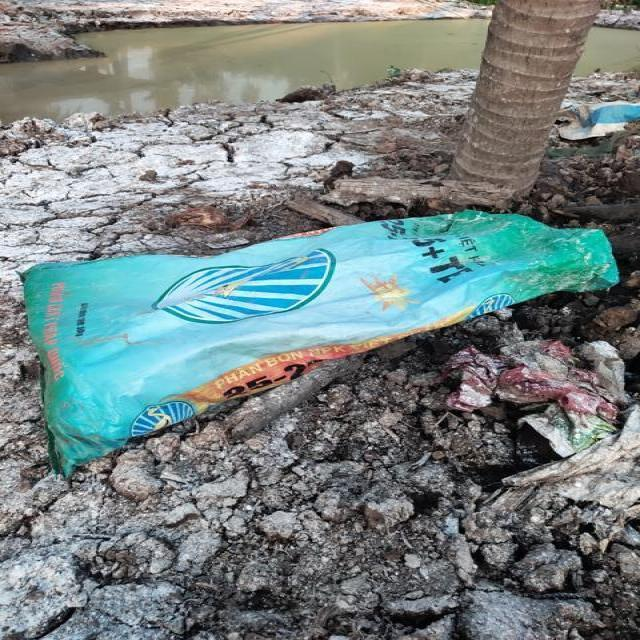gunny_bag: (23, 210, 620, 476)
